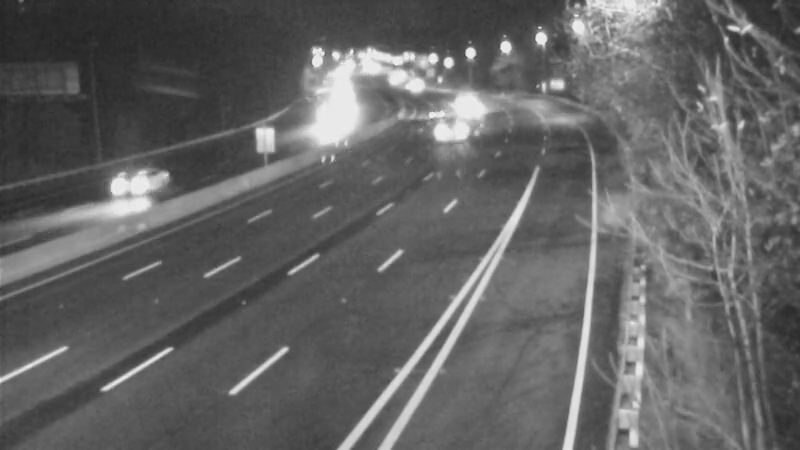vehicle: (104, 144, 184, 224), (434, 72, 484, 122), (448, 86, 498, 136), (409, 89, 459, 139), (421, 105, 471, 155)
